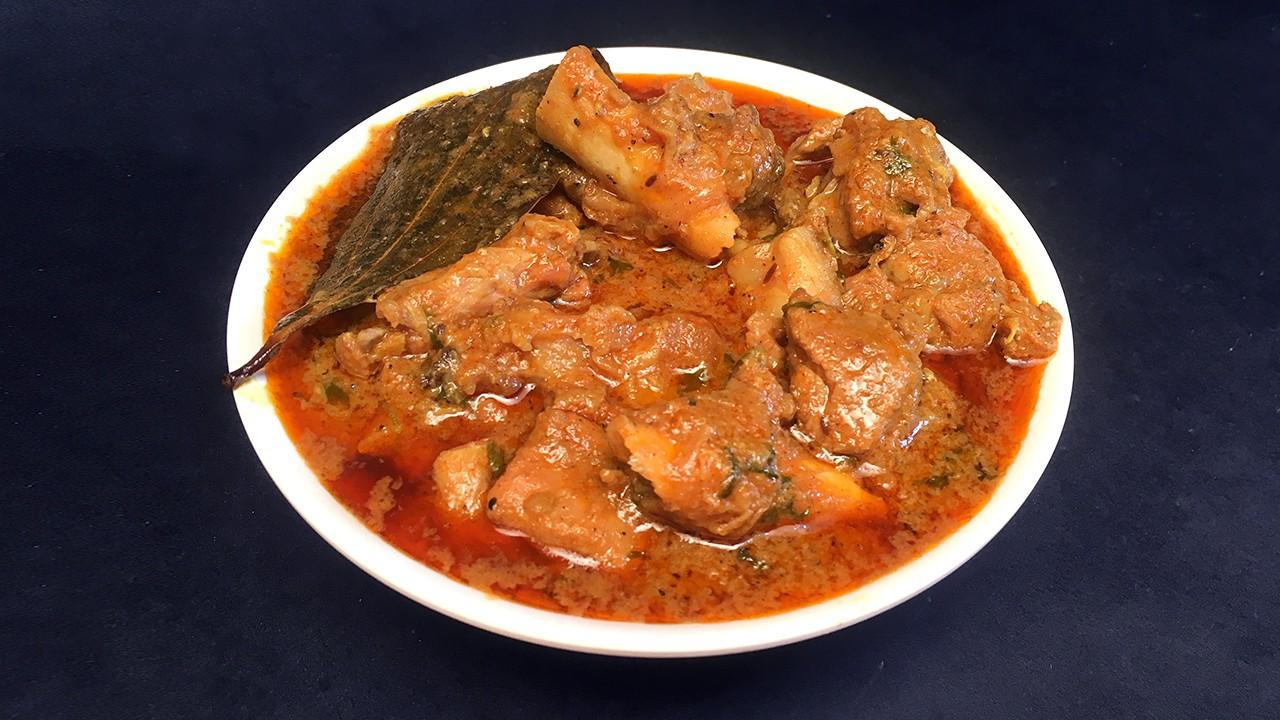MuttonCurry: (262, 44, 1054, 618)
